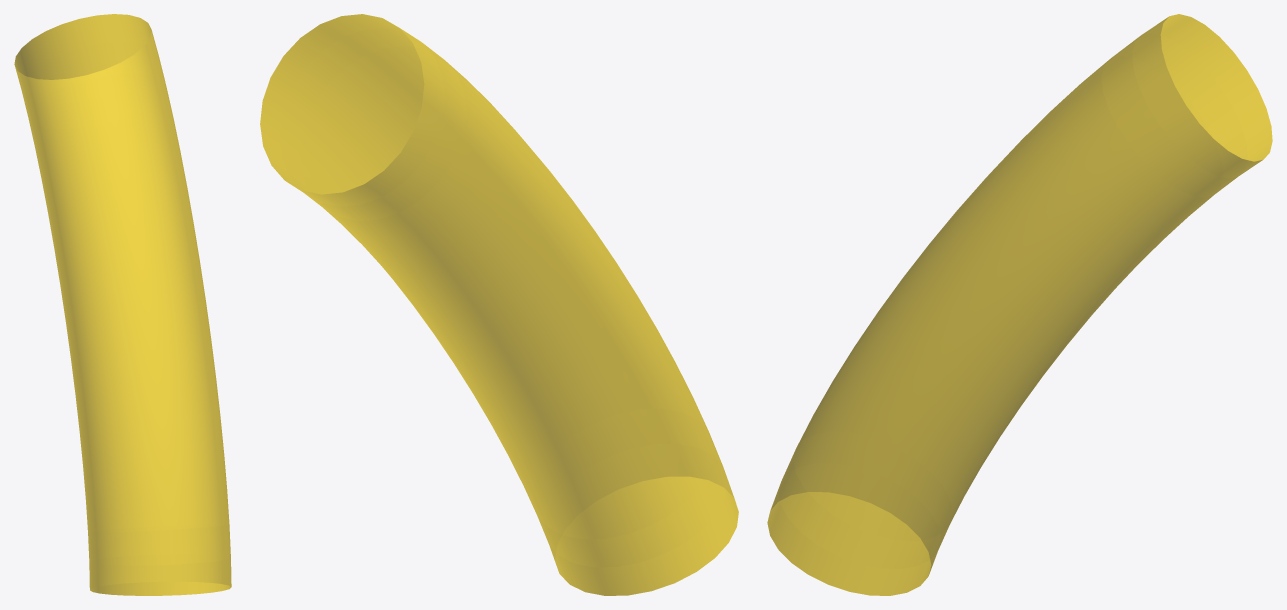
The model's file is Event_419990632_track_77.fbx.
The picture shows the model from 3 angles, left to right: view 1: azimuth 30°, elevation 25°; view 2: azimuth 150°, elevation 25°; view 3: azimuth 270°, elevation 25°; orthographic projection. The views are drawn at different scales.
Parts seen in each view (by area): view 1: Model; view 2: Model; view 3: Model.
Boxes of the visible parts, box(x1,y1,x2,y2) form: Model: box(14, 14, 231, 595); Model: box(260, 14, 738, 595); Model: box(767, 14, 1272, 595).
Bounding box in the file's own units: 0.0635 × 0.1506 × 0.1177.
